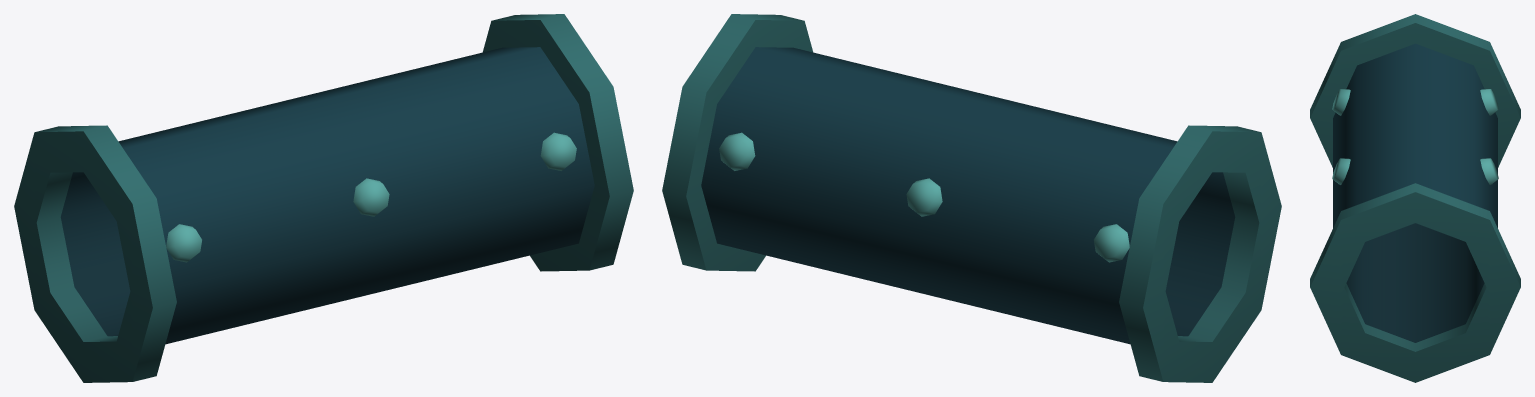
The model's file is pipe-large-long.obj.
3 renders of one model, left to right at view 1: azimuth 30°, elevation 25°; view 2: azimuth 150°, elevation 25°; view 3: azimuth 270°, elevation 25°, orthographic. The views are drawn at different scales.
Visible parts, largest first — view 1: pipe-large-long; view 2: pipe-large-long; view 3: pipe-large-long.
Part boxes in pixels (x1,y1,x2,y2): pipe-large-long: (14,14,633,382); pipe-large-long: (662,14,1281,382); pipe-large-long: (1310,14,1520,382).
Size of the model in its own units: 2 by 1 by 1.
